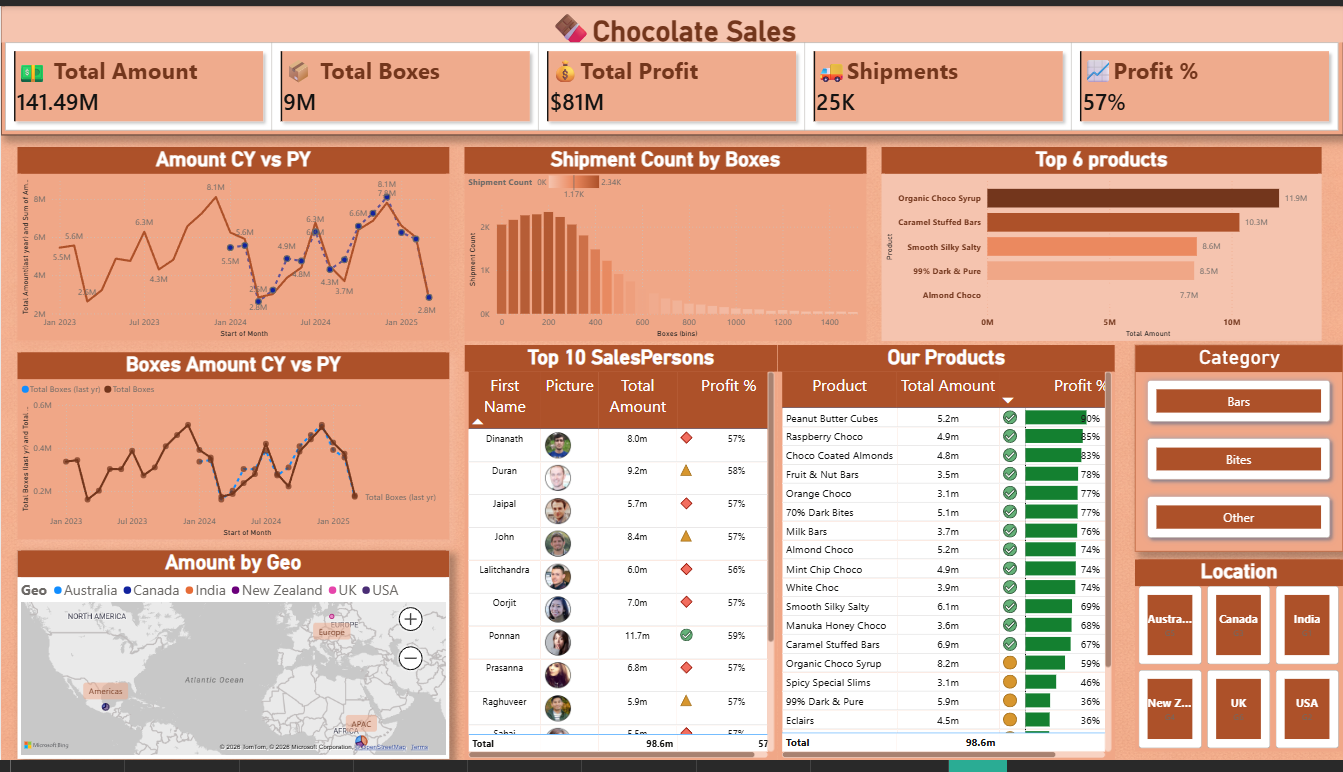

The dashboard page shown, as its layout file describes it:
{"tool":"powerbi","page":{"name":"BI Report","canvas":[1920,1078],"ordinal":7},"visuals":[{"type":"lineChart","title":"Amount CY vs PY","fields":{"Category":["calendar.Start of Month"],"Y":["shipments.Total Amount(last year)","Sum(shipments.Amount)"]},"box":[23.5,201.8,617.1,276.9],"z":0},{"type":"lineChart","title":"Boxes Amount CY vs PY","fields":{"Y":["shipments.Total Boxes (last yr)","shipments.Total Boxes"],"Category":["calendar.Start of Month"]},"box":[23.5,495.1,617.1,267.5],"z":1000},{"type":"map","title":"Amount by Geo","fields":{"Size":["shipments.Total Amount"],"Series":["locations.Geo"],"Category":["locations.Region"]},"box":[23.5,778.9,617.1,298],"z":2000},{"type":"clusteredColumnChart","title":"Shipment Count by Boxes","fields":{"Y":["shipments.Shipment Count"],"Category":["shipments.Boxes (bins)"]},"box":[663.2,202.1,574.6,277.1],"z":3000},{"type":"tableEx","title":"Top 10 SalesPersons","fields":{"Values":["people.First Name","people.Picture","shipments.Total Amount","shipments.Profit %"]},"box":[663.2,483.8,447.4,595.1],"z":4000},{"type":"clusteredBarChart","title":"Top 6 products","fields":{"Category":["products.Product"],"Y":["shipments.Total Amount"]},"box":[1258.3,202.1,629.2,277.1],"z":5000},{"type":"tableEx","title":"Our Products","fields":{"Values":["products.Product","shipments.Total Amount","shipments.Profit %"]},"box":[1110.7,483.8,481.5,595.1],"z":6000},{"type":"cardVisual","title":"🍫Chocolate Sales","fields":{"Data":["shipments.Total Amount","shipments.Total Boxes","shipments.Total Profit","shipments.Shipment Count","shipments.Profit %"]},"box":[0,0,1919.4,184.4],"z":7000},{"type":"advancedSlicerVisual","fields":{"Values":["products.Category"]},"box":[1621.7,483.8,297.5,295.3],"z":8000},{"type":"advancedSlicerVisual","title":"Location","fields":{"Values":["locations.Geo"],"Label":["Min(locations.GID)"]},"box":[1621.7,790.4,297.5,274.8],"z":9000}]}

Visuals, with their boxes in screenshot pixels (x1, y1, x2, y2), scaled from the page's 1920x1078 canvas onto the 1343x772 screenshot:
"Amount CY vs PY" lineChart: pyautogui.locateOnScreen(16, 145, 448, 343)
"Boxes Amount CY vs PY" lineChart: pyautogui.locateOnScreen(16, 355, 448, 546)
"Amount by Geo" map: pyautogui.locateOnScreen(16, 558, 448, 771)
"Shipment Count by Boxes" clusteredColumnChart: pyautogui.locateOnScreen(464, 145, 866, 343)
"Top 10 SalesPersons" tableEx: pyautogui.locateOnScreen(464, 346, 777, 771)
"Top 6 products" clusteredBarChart: pyautogui.locateOnScreen(880, 145, 1320, 343)
"Our Products" tableEx: pyautogui.locateOnScreen(777, 346, 1114, 771)
"🍫Chocolate Sales" cardVisual: pyautogui.locateOnScreen(0, 0, 1342, 132)
advancedSlicerVisual - products.Category: pyautogui.locateOnScreen(1134, 346, 1342, 558)
"Location" advancedSlicerVisual: pyautogui.locateOnScreen(1134, 566, 1342, 763)
